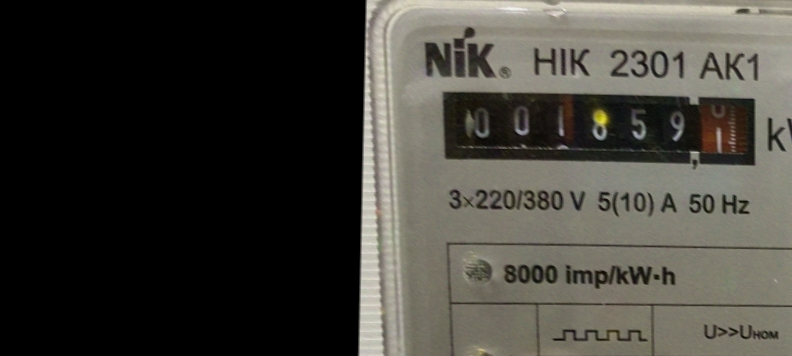0: (470, 105, 490, 141), (510, 104, 530, 138)
1: (711, 125, 724, 155), (554, 104, 565, 139)
5: (627, 106, 648, 142)
8: (588, 107, 609, 143)
9: (666, 109, 685, 144)
screen: (429, 80, 766, 177)
